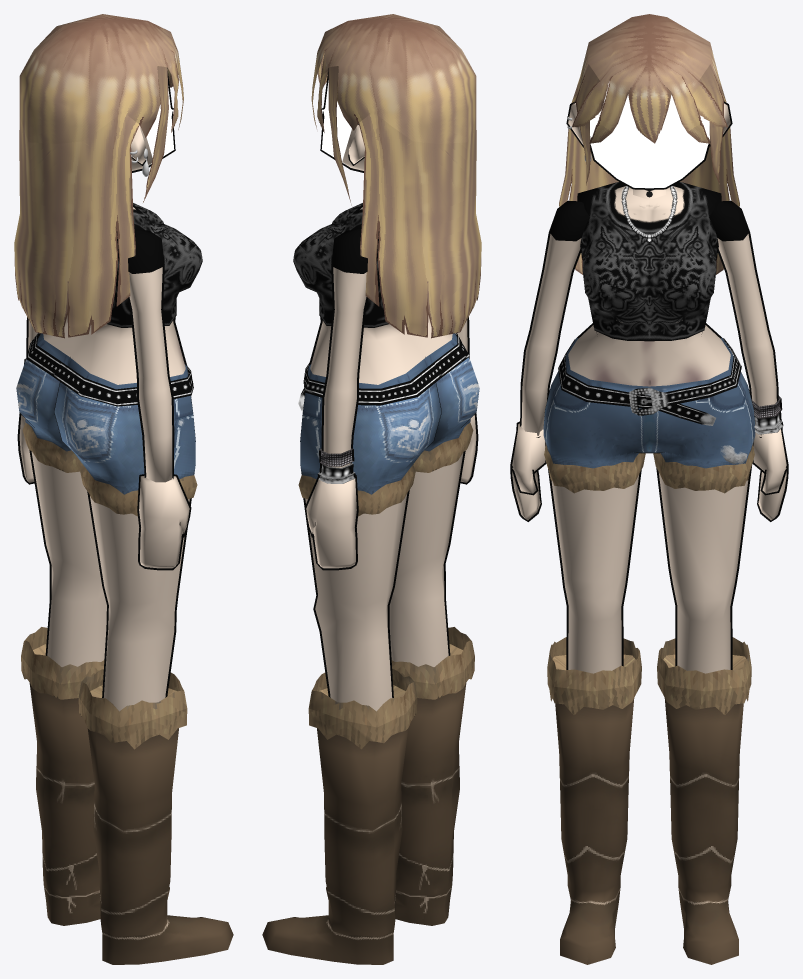
File: anime_girl_blonde.glb
3 views of the same model, side by side, from view 1: azimuth 30°, elevation 25°; view 2: azimuth 150°, elevation 25°; view 3: azimuth 270°, elevation 25° (orthographic). The views are drawn at different scales.
Visible parts, largest first — view 1: Cube, Cube.003, Cube.002; view 2: Cube, Cube.003, Cube.002; view 3: Cube, Cube.002, Cube.003.
Part boxes in pixels (bbox=[...]): Cube: bbox=[14, 14, 233, 964]; Cube.003: bbox=[117, 229, 163, 273]; Cube.002: bbox=[146, 86, 174, 165]; Cube: bbox=[262, 14, 481, 964]; Cube.003: bbox=[332, 229, 378, 273]; Cube.002: bbox=[321, 80, 351, 167]; Cube: bbox=[510, 14, 788, 964]; Cube.002: bbox=[590, 81, 709, 188]; Cube.003: bbox=[550, 200, 748, 241].
Size of the model in its own units: 2.98 by 15.01 by 4.24.
8 materials, 4 textured.
